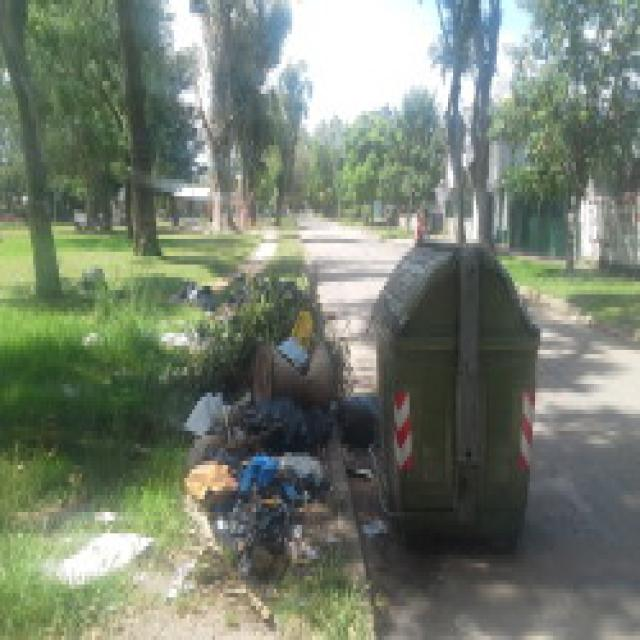garbage: (184, 298, 336, 439), (189, 444, 310, 580)
